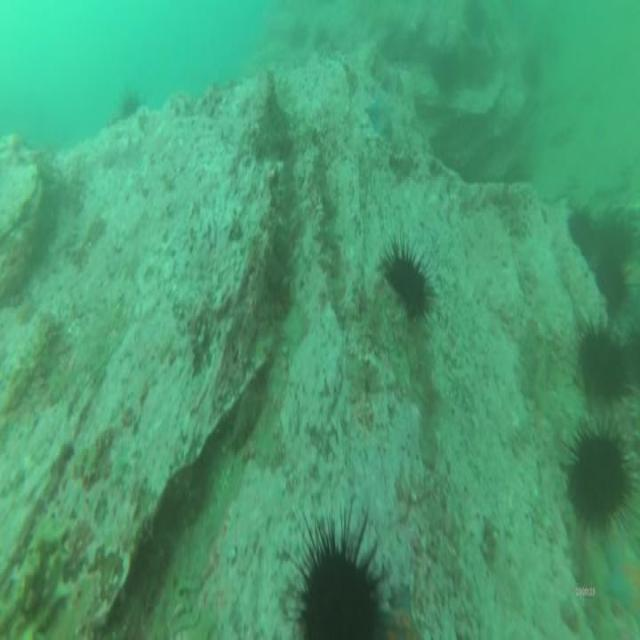echinus: (299, 543, 376, 640), (569, 436, 631, 523), (584, 330, 628, 403), (386, 251, 426, 316), (568, 207, 599, 267), (596, 218, 636, 261), (598, 262, 627, 312)
starfish: (365, 89, 402, 134)
